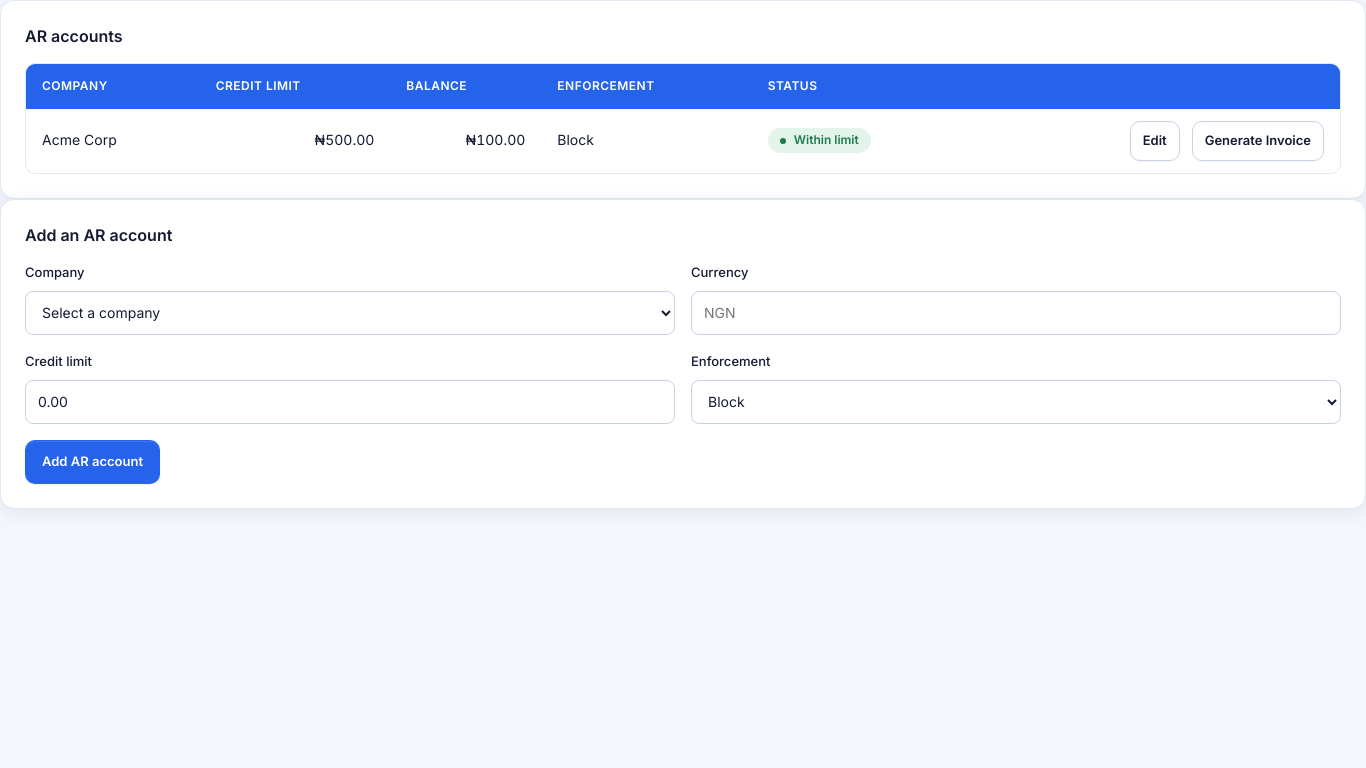
Test: <AccountsTab> › generates an invoice and shows a real confirmation message (TESTING.md AR-1)
Click the button "Generate Invoice".
click(1258, 141)  # box x1=1192 y1=121 x2=1324 y2=161
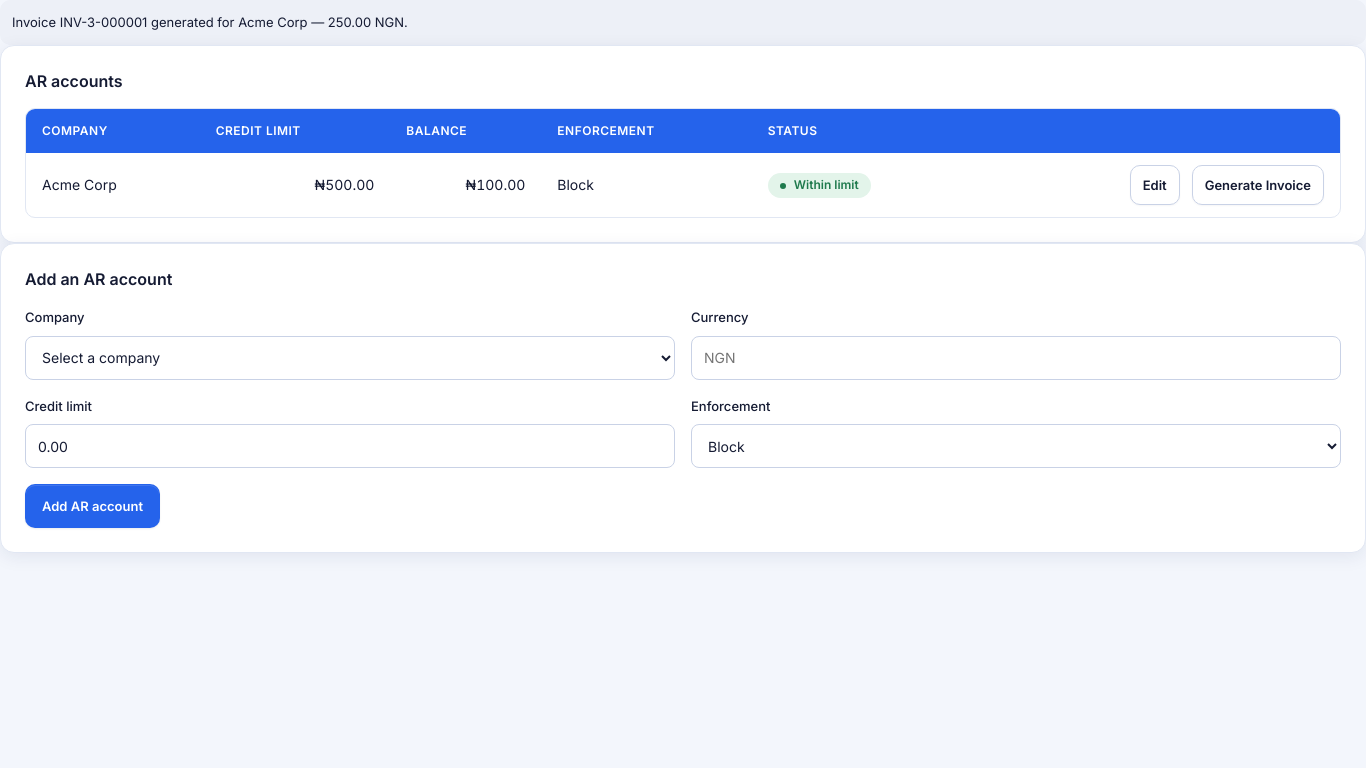
expect the text "Invoice INV-3-000001 generated for Acme Corp — 250.00 NGN." is shown: met, box x1=0 y1=0 x2=1365 y2=45
